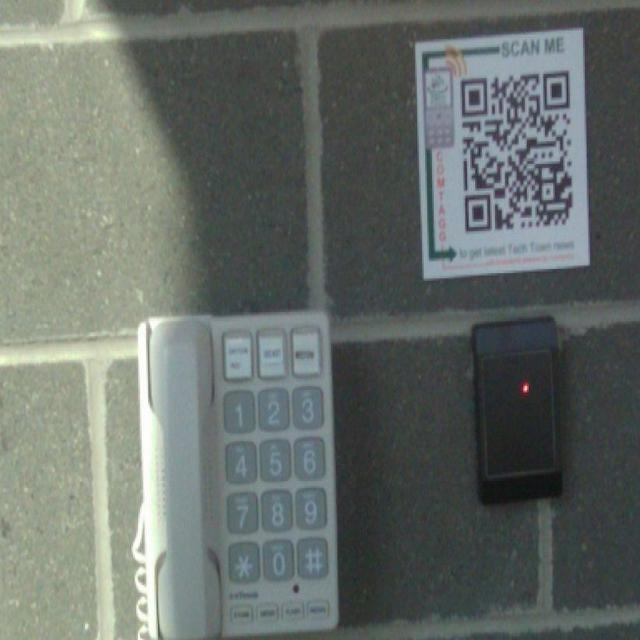qrcode: (461, 73, 573, 233)
